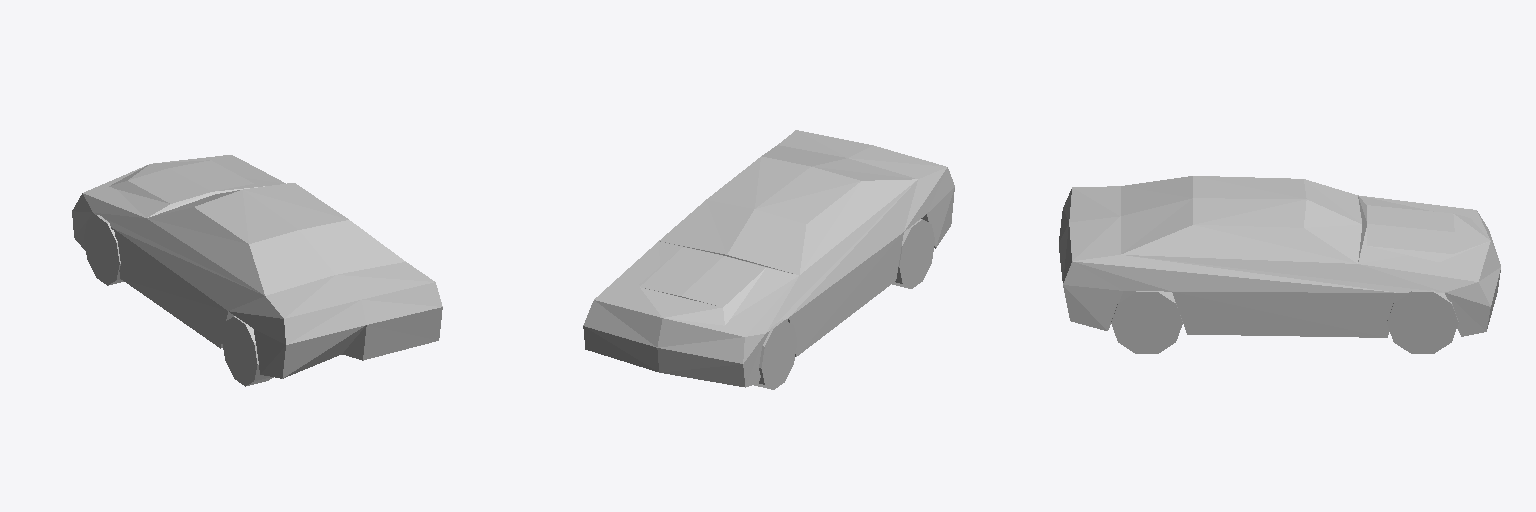
Rendered from car.obj.
3 renders of one model, left to right at view 1: azimuth 30°, elevation 25°; view 2: azimuth 150°, elevation 25°; view 3: azimuth 270°, elevation 25°, orthographic.
Parts seen in each view (by area): view 1: wavefront_, cylinder02, cylinder00; view 2: wavefront_, cylinder00, cylinder02; view 3: wavefront_, cylinder01, cylinder.
Boxes of the visible parts, box(x1,y1,x2,y2) form: wavefront_: box(72, 155, 442, 378); cylinder02: box(222, 316, 273, 386); cylinder00: box(84, 215, 123, 285); wavefront_: box(583, 130, 954, 387); cylinder00: box(754, 319, 796, 389); cylinder02: box(892, 219, 934, 288); wavefront_: box(1059, 176, 1500, 337); cylinder01: box(1111, 291, 1182, 353); cylinder: box(1387, 290, 1458, 353).
Size of the model in its own units: 4.77 by 3.18 by 11.06.